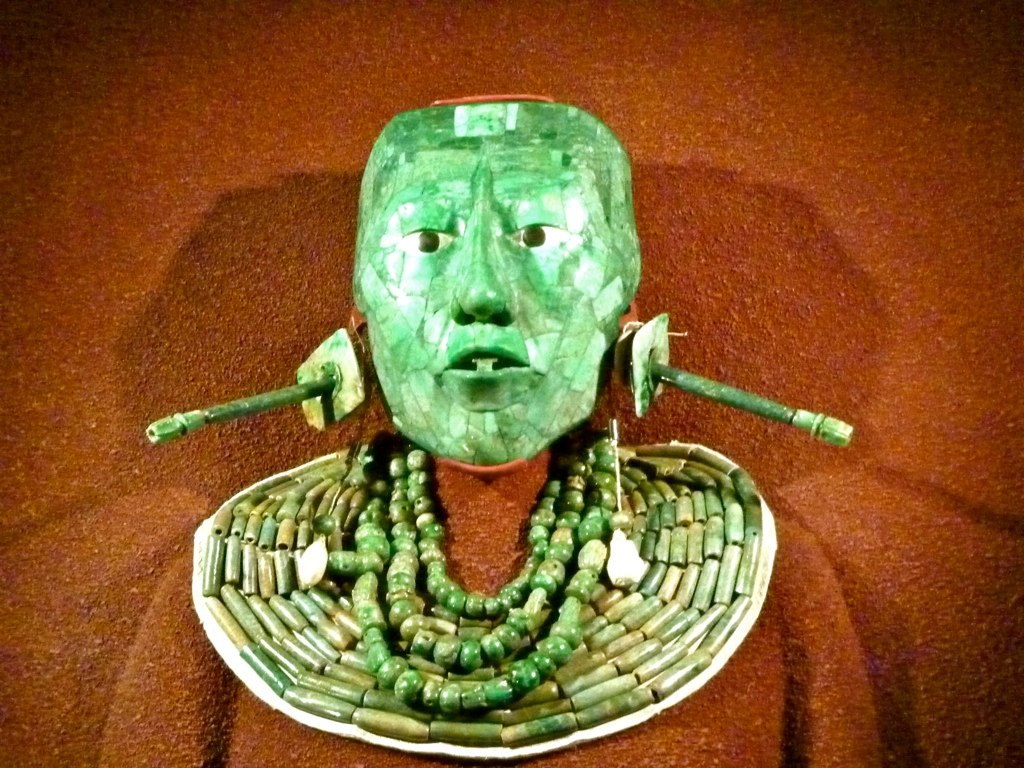Person: (99, 93, 882, 767)
